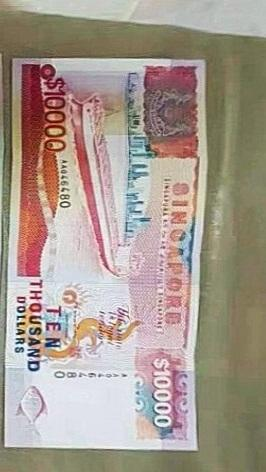10000SingaporeDollar: (16, 60, 202, 444)
